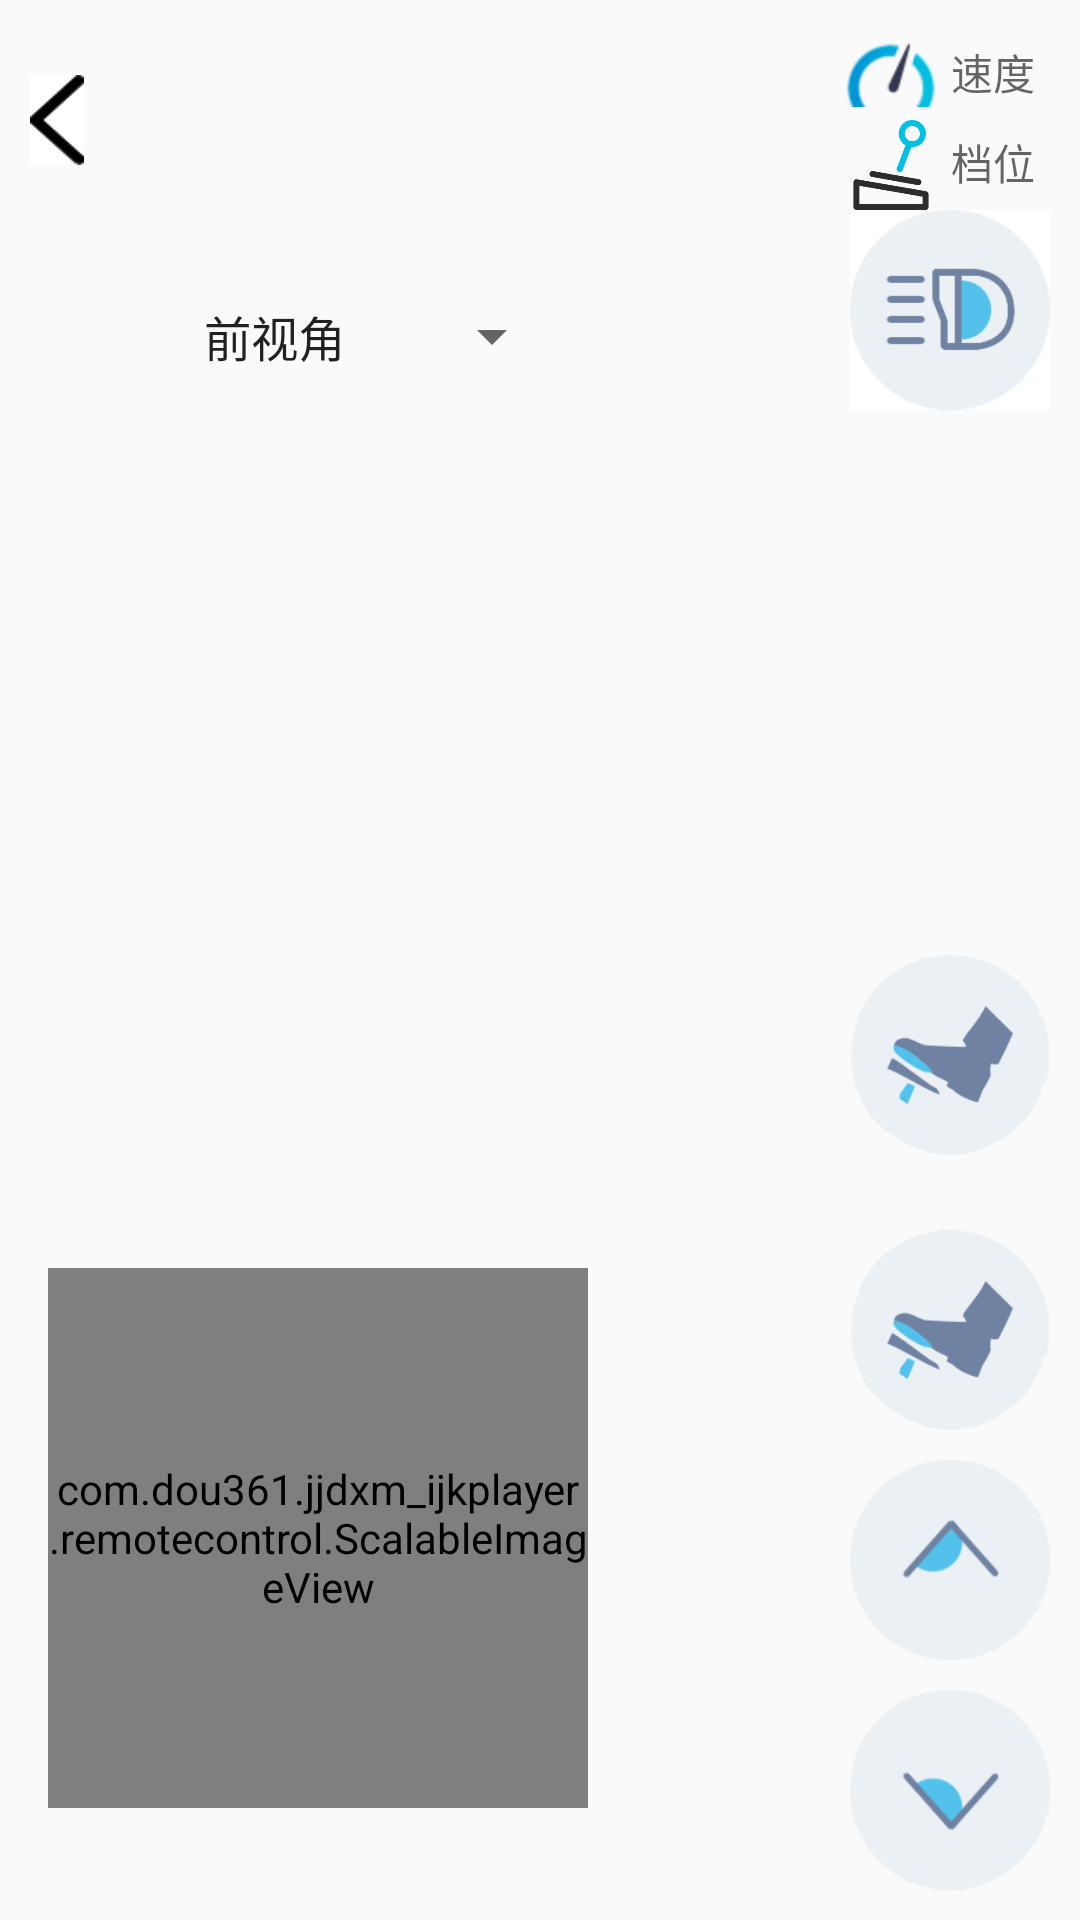

Icons on this 1080 × 1920 Android screen, each with its box as (left=x1, top=y1, right=x2, bottom=y2):
backward: (left=850, top=1690, right=1050, bottom=1890)
brake: (left=851, top=955, right=1049, bottom=1155), (left=851, top=1230, right=1049, bottom=1430)
forward: (left=850, top=1460, right=1050, bottom=1660)
return bar: (left=30, top=75, right=84, bottom=165)
